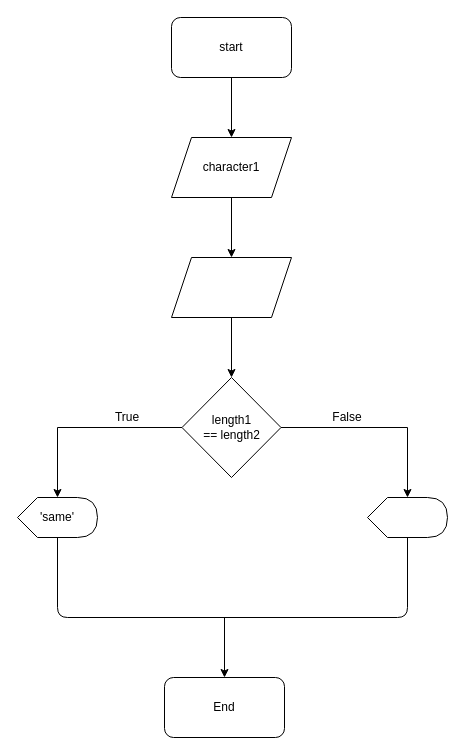
Image size: 465x755. Some labels were removed from this diagram. The centre of each missing label's shape, as x and y in pixels:
'not same': (x=407, y=517)
character2: (x=231, y=287)
